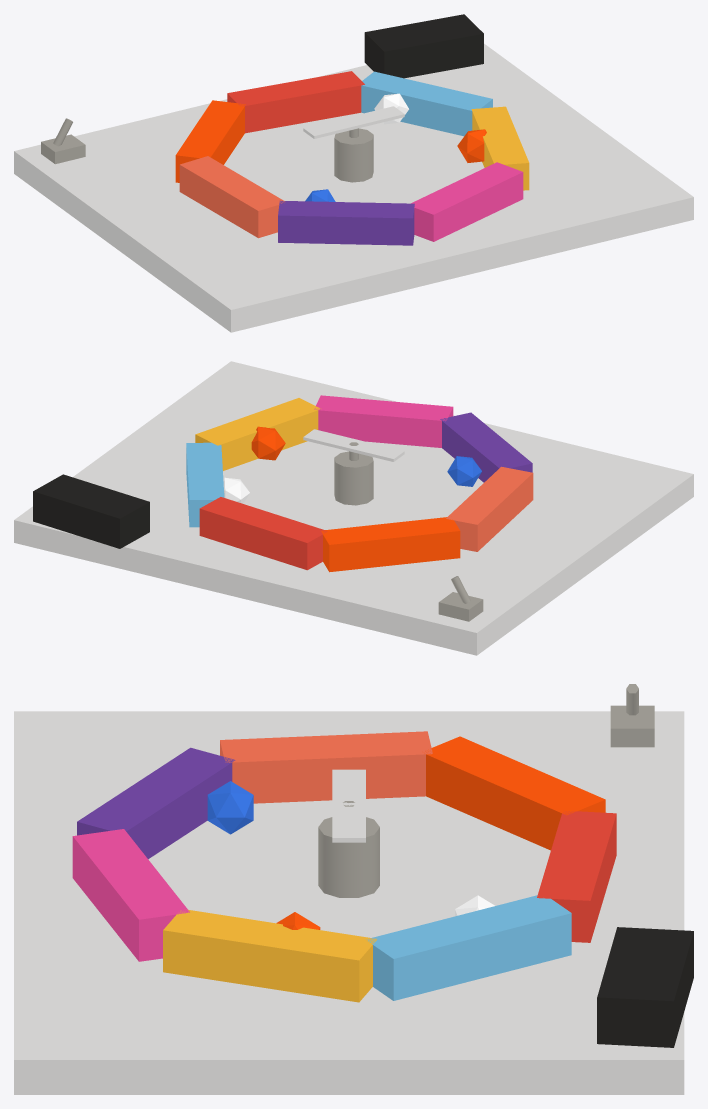
Rendered from village-circuit.glb.
3 renders of one model, top to bottom at view 1: azimuth 30°, elevation 25°; view 2: azimuth 150°, elevation 25°; view 3: azimuth 270°, elevation 25°, orthographic. The views are drawn at different scales.
Bounding box in the file's own units: 6.4 × 1 × 5.28.
